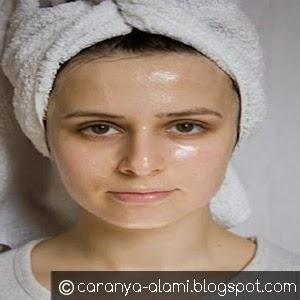Oily-Skin: (139, 87, 177, 105), (140, 67, 179, 84), (171, 142, 200, 162), (107, 151, 118, 167), (143, 154, 150, 169), (141, 123, 147, 131)
